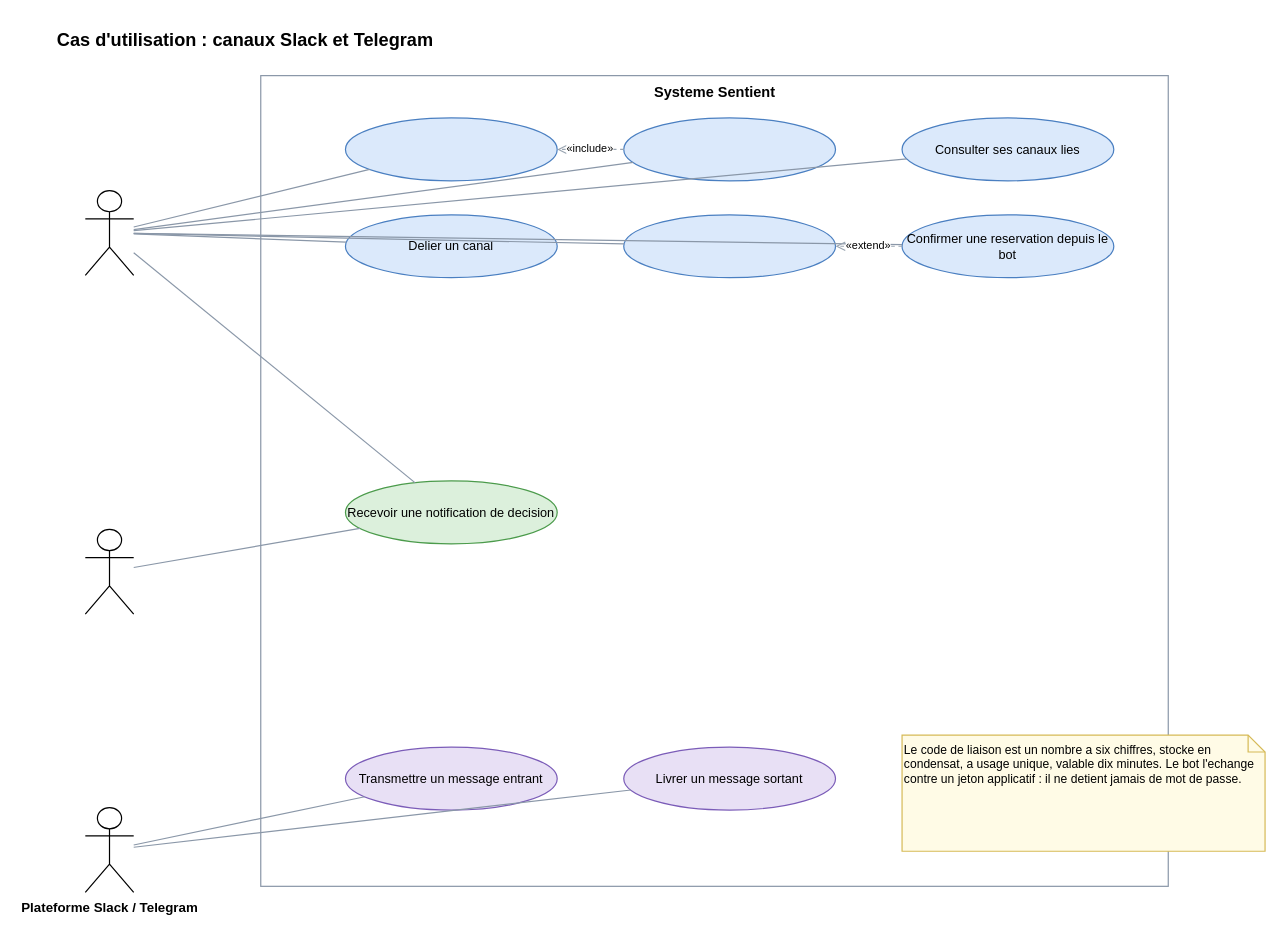
Some shapes in this 1286 by 937 pixel diagram are drawn without their labels. Each missing label, with the box of its shape:
Administrateur RH: (84, 528, 134, 614)
Demander un code de liaison: (344, 117, 557, 181)
Dialoguer avec le bot: (623, 214, 836, 278)
Employe: (84, 189, 134, 275)
Lier son compte depuis le bot: (623, 117, 836, 181)
